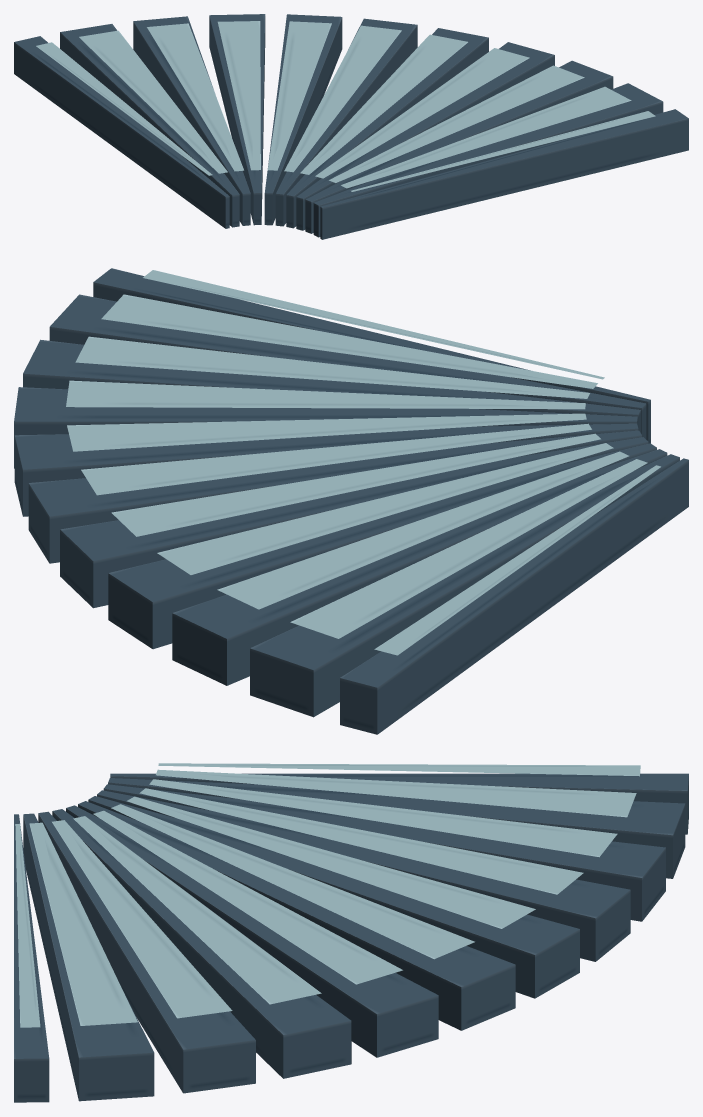
Rendered from sc_tread_curve_left_16.obj.
3 views of the same model, one above another, from view 1: azimuth 30°, elevation 25°; view 2: azimuth 150°, elevation 25°; view 3: azimuth 270°, elevation 25° (orthographic). The views are drawn at different scales.
Size of the model in its own units: 17.5 by 1.56 by 17.5.
Materials: 1 (1 with a texture image).
